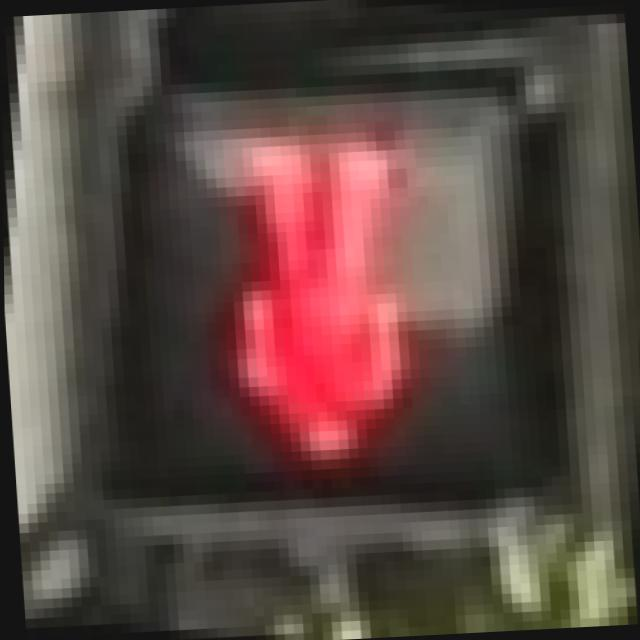red_light: (57, 85, 554, 567)
